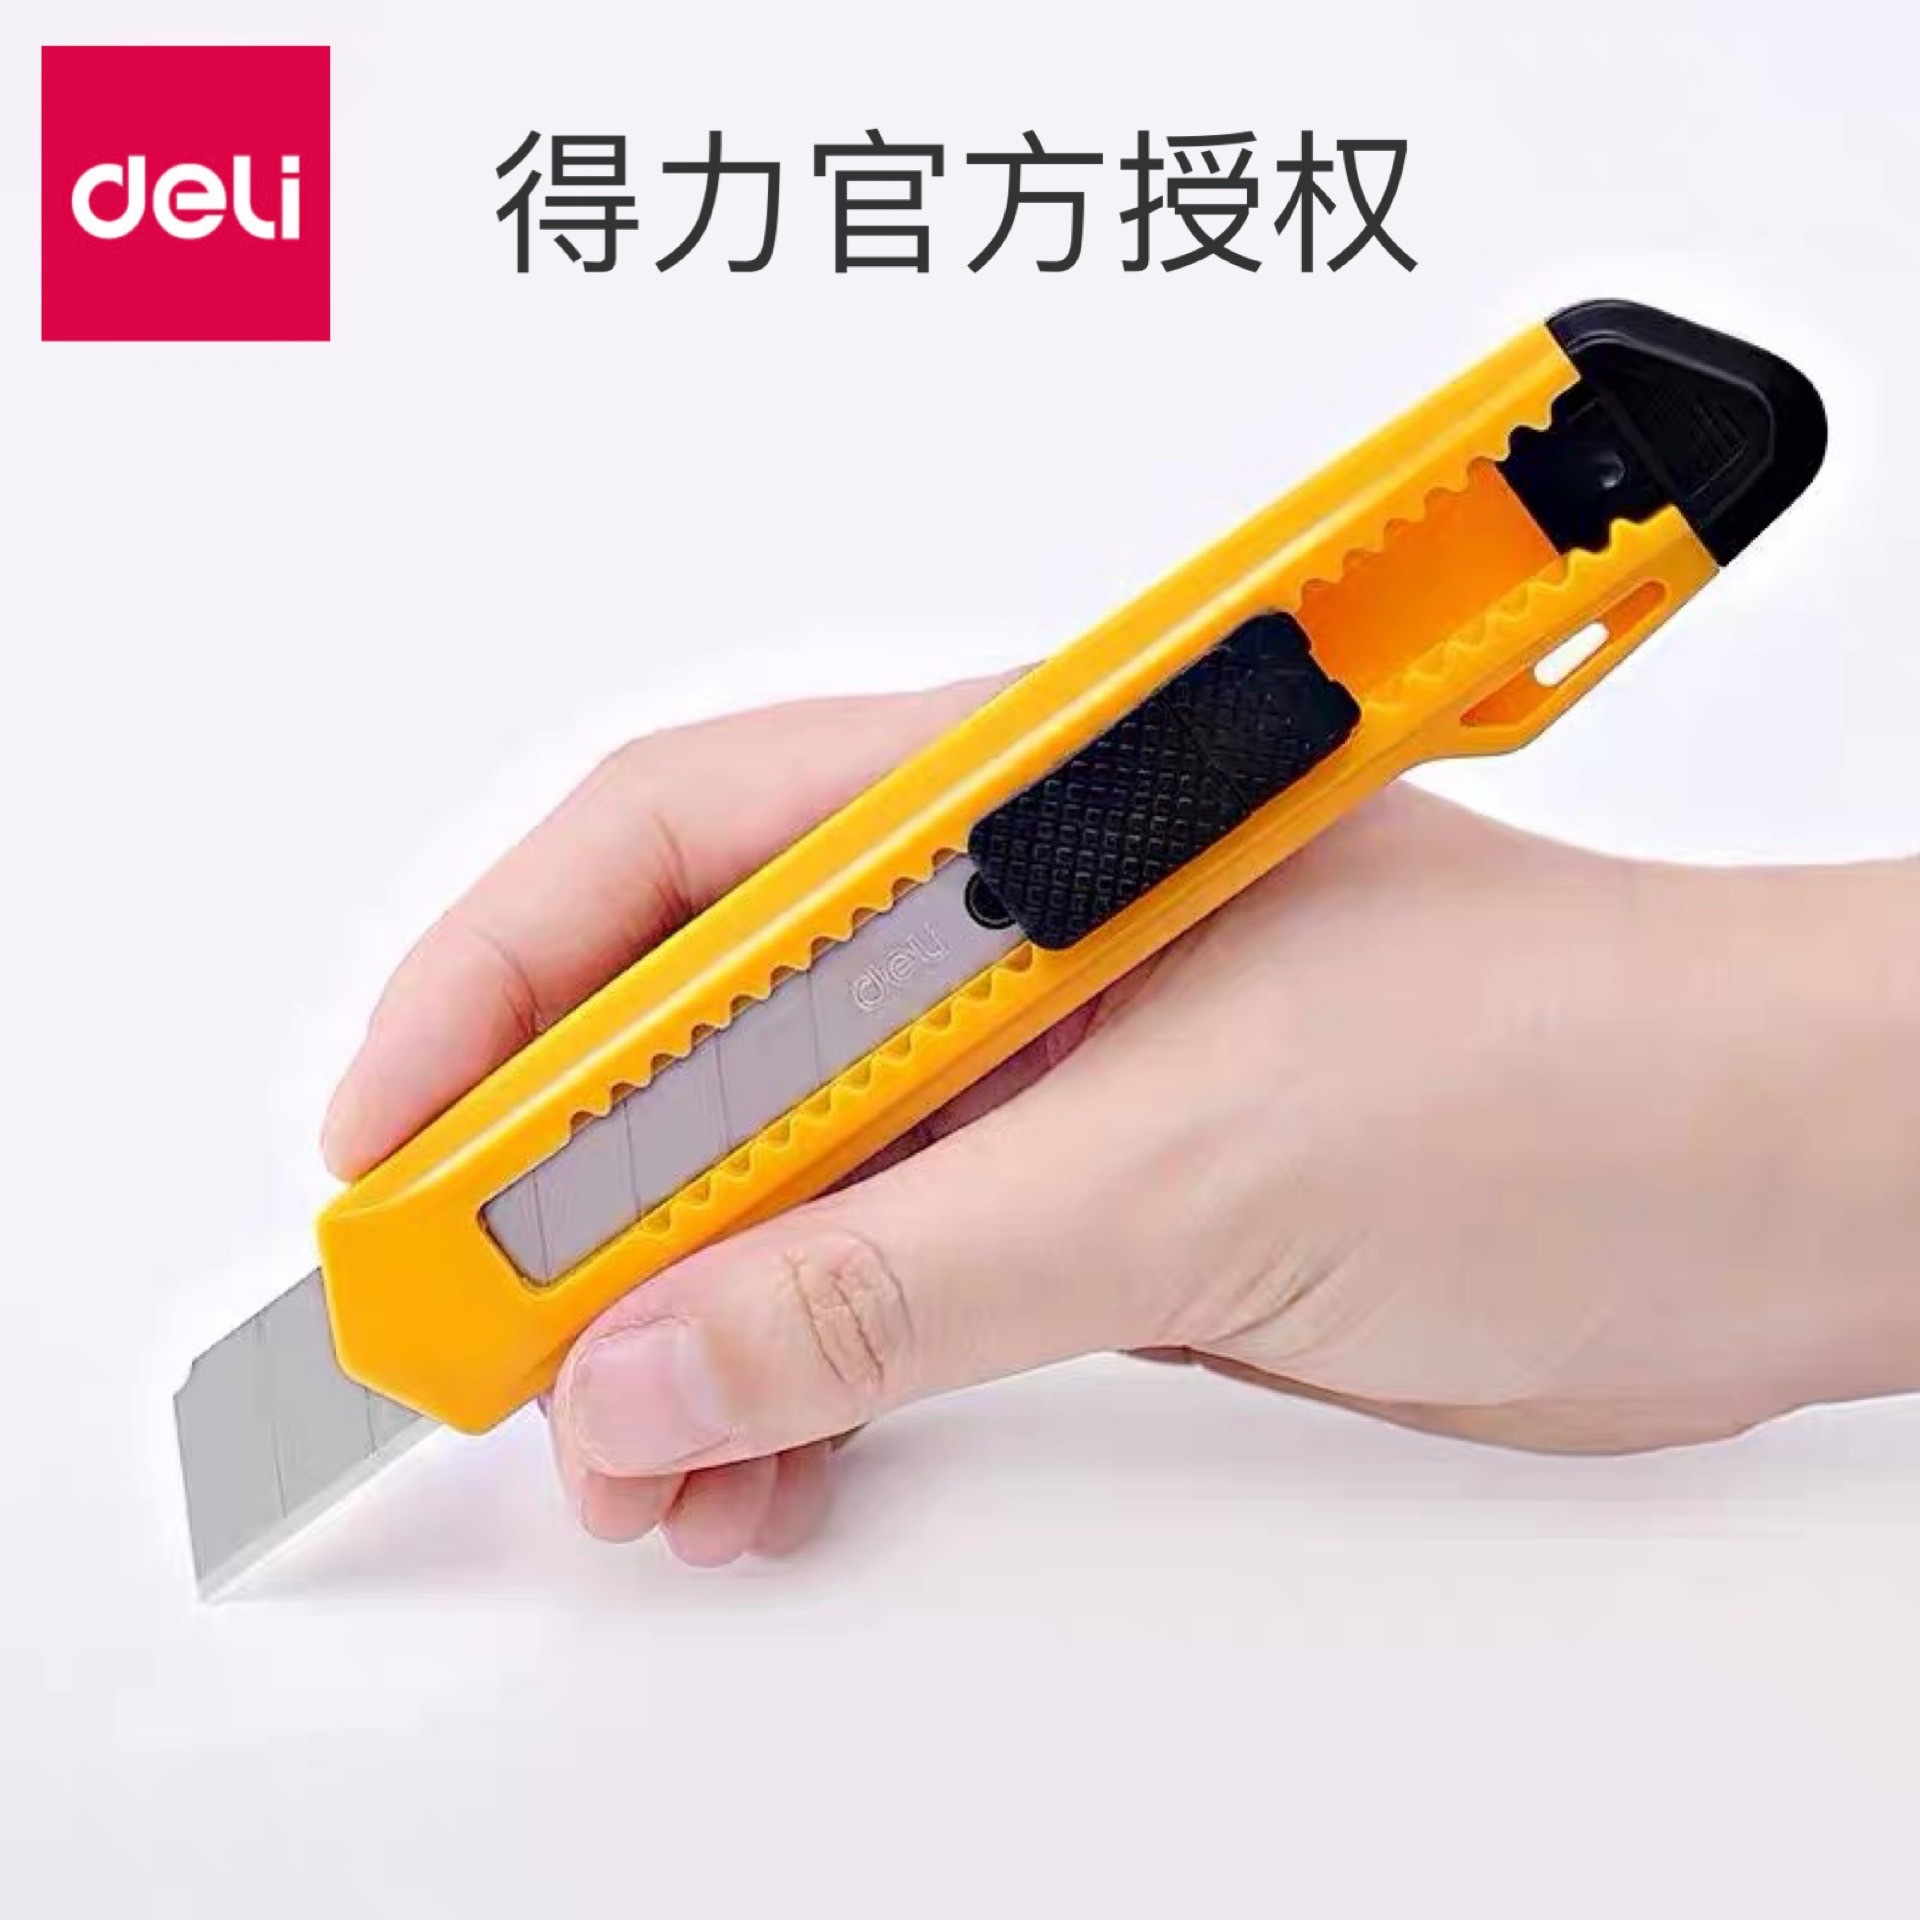cutter: (167, 285, 1832, 1616)
